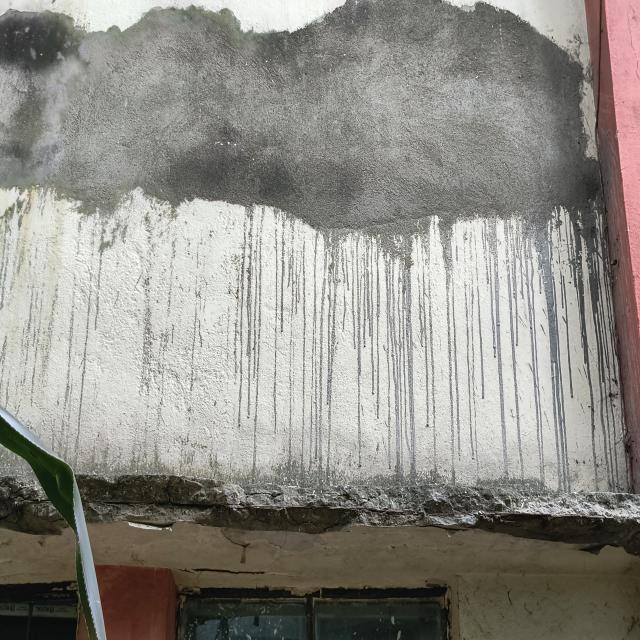spalling: (0, 0, 599, 235), (77, 473, 640, 555), (0, 476, 66, 534)
